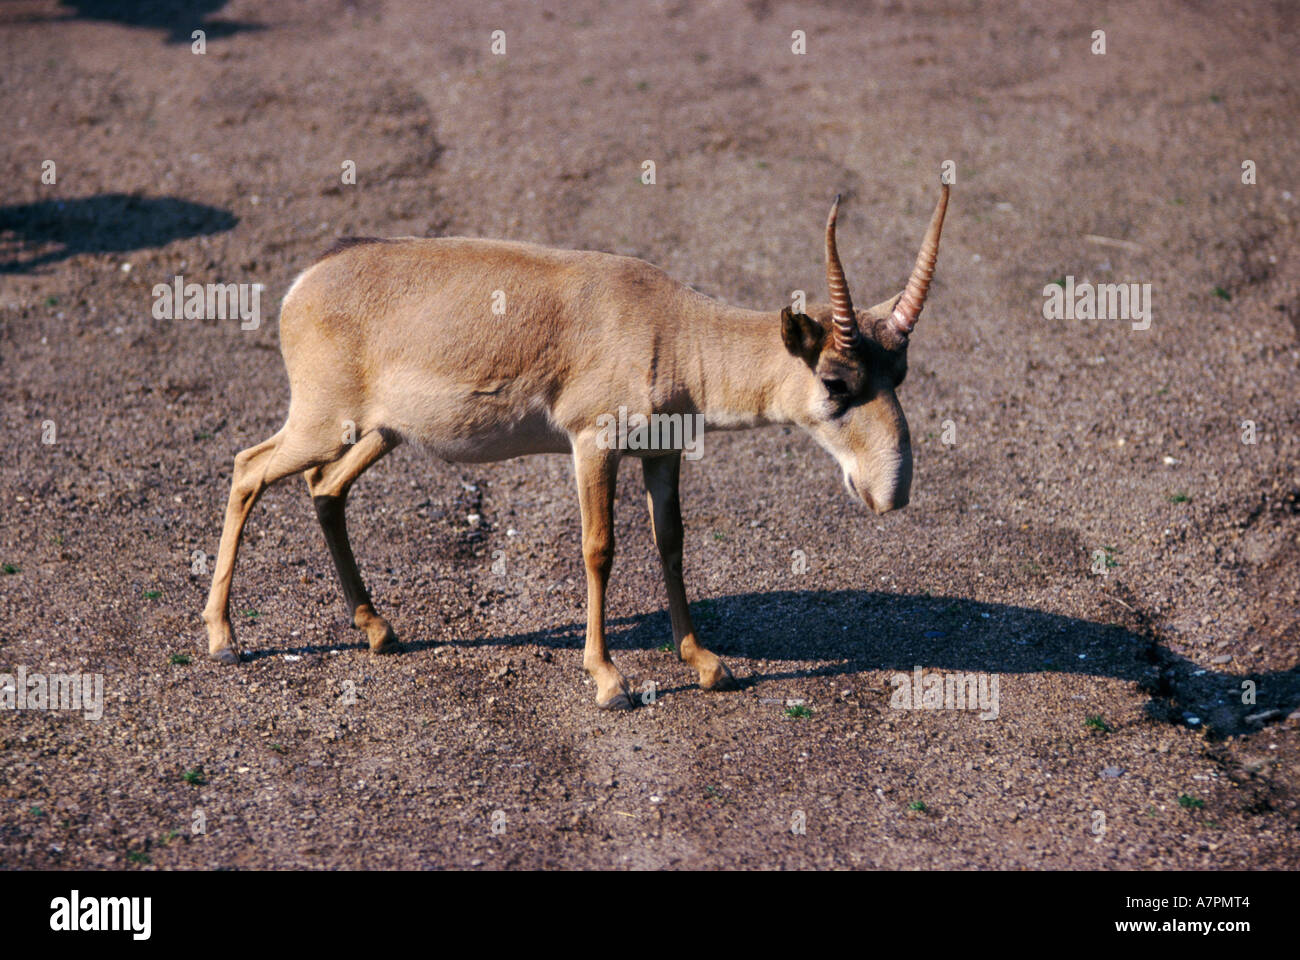saiga: (202, 178, 950, 716)
